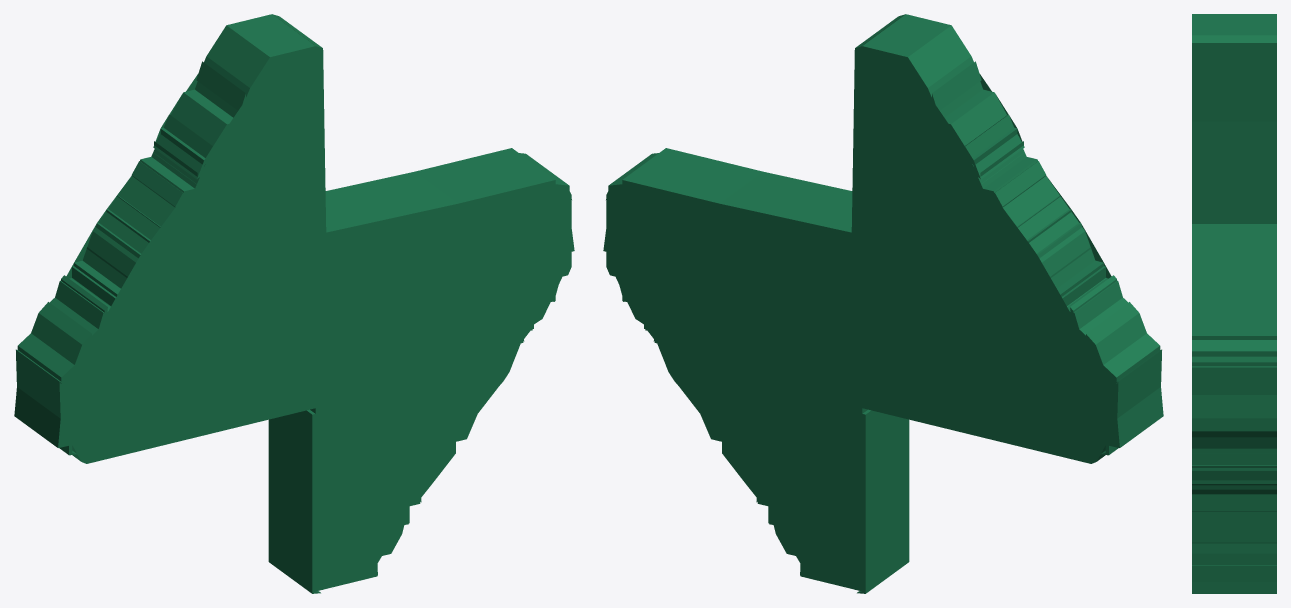
Rendered from supabase.glb.
3 renders of one model, left to right at view 1: azimuth 30°, elevation 25°; view 2: azimuth 150°, elevation 25°; view 3: azimuth 270°, elevation 25°, orthographic. The views are drawn at different scales.
Visible parts, largest first — view 1: nodes[0], nodes[1], nodes[12], nodes[5], nodes[21], nodes[7], nodes[8], nodes[6], nodes[2], nodes[4], nodes[3], nodes[32] (+2 smaller); view 2: nodes[0], nodes[1], nodes[12], nodes[5], nodes[21], nodes[7], nodes[8], nodes[6], nodes[2], nodes[4], nodes[3], nodes[32] (+3 smaller); view 3: nodes[0], nodes[5], nodes[11], nodes[4], nodes[27], nodes[19], nodes[1], nodes[23], nodes[36], nodes[49], nodes[41], nodes[33].
Boxes of the visible parts, x1,y1,x2,y2 form: nodes[0]: (17,14,571,591); nodes[1]: (60,16,317,453); nodes[12]: (268,409,320,593); nodes[5]: (317,47,571,236); nodes[21]: (14,350,77,455); nodes[7]: (66,176,184,318); nodes[8]: (31,302,91,436); nodes[6]: (153,24,274,179); nodes[2]: (62,334,322,590); nodes[4]: (419,272,567,502); nodes[3]: (94,53,320,456); nodes[32]: (196,61,246,110); nodes[0]: (606,14,1160,591); nodes[1]: (860,17,1116,453); nodes[12]: (857,409,909,593); nodes[5]: (606,47,860,236); nodes[21]: (1100,350,1163,455); nodes[7]: (992,176,1111,318); nodes[8]: (1086,302,1146,435); nodes[6]: (903,25,1024,179); nodes[2]: (855,334,1115,590); nodes[4]: (606,264,758,502); nodes[3]: (857,53,1083,456); nodes[32]: (931,61,981,110); nodes[0]: (1192,14,1276,593); nodes[5]: (1192,46,1276,367); nodes[11]: (1192,44,1276,223); nodes[4]: (1192,432,1276,553); nodes[27]: (1192,375,1276,418); nodes[19]: (1192,565,1276,593); nodes[1]: (1192,14,1276,32); nodes[23]: (1192,437,1276,448); nodes[36]: (1192,465,1276,470); nodes[49]: (1192,480,1276,485); nodes[41]: (1192,507,1276,511); nodes[33]: (1192,35,1276,36).
Bounding box in the file's own units: 95.56 × 96.96 × 14.
